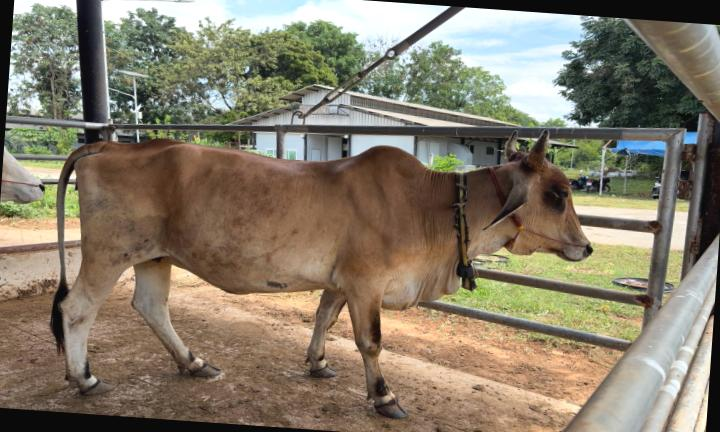Brahman: (52, 129, 592, 417)
